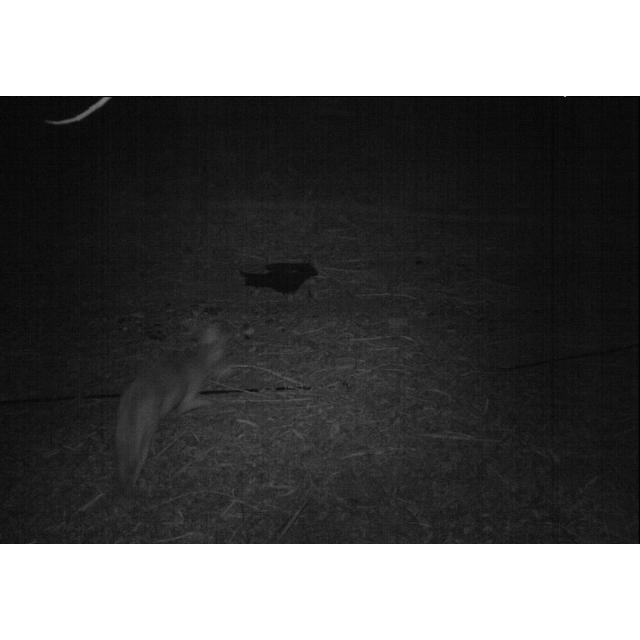animals: (109, 322, 237, 478)
